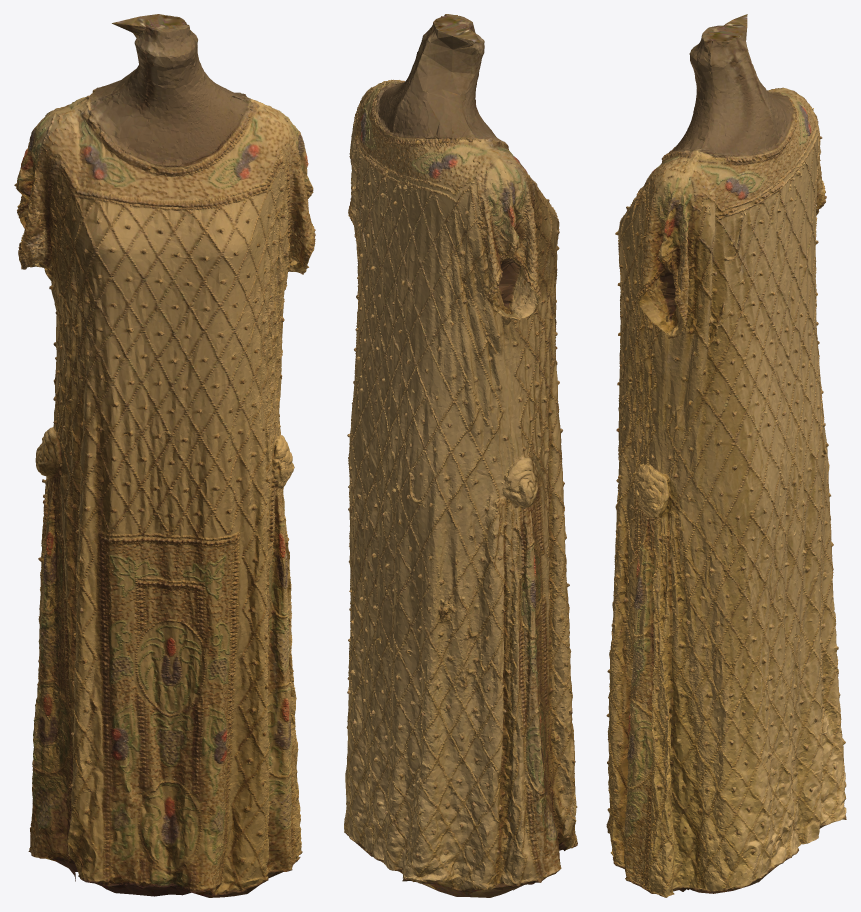
Rendered from dr-2025-486-detail.glb.
3 views of the same model, side by side, from view 1: azimuth 30°, elevation 25°; view 2: azimuth 150°, elevation 25°; view 3: azimuth 270°, elevation 25° (orthographic). The views are drawn at different scales.
Visible parts, largest first — view 1: display; view 2: display; view 3: display.
Part boxes in pixels (<box>): display: <box>14,14,315,897</box>; display: <box>344,14,577,897</box>; display: <box>606,14,846,897</box>.
Bounding box in the file's own units: 7 × 23.03 × 6.1.
1 material, 1 textured.
